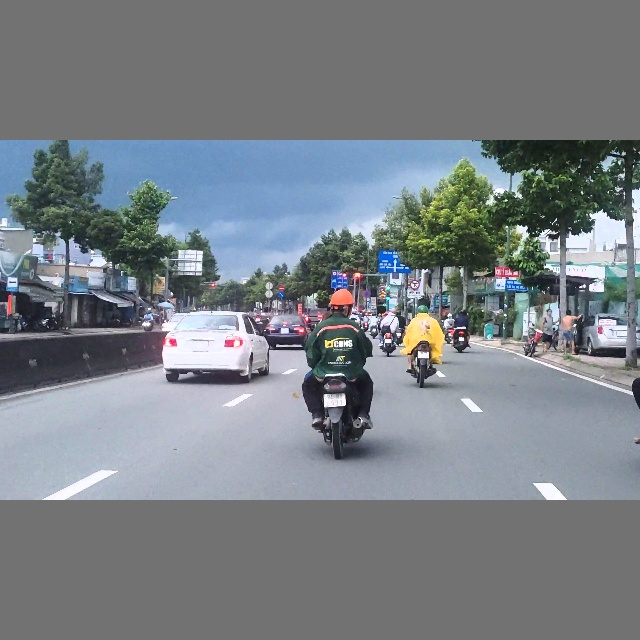I.434a: (7, 277, 18, 291)
P.102: (279, 285, 284, 291)
P.137: (410, 280, 420, 289)
R.302a: (278, 292, 284, 298)
R.415a: (331, 275, 347, 289)
